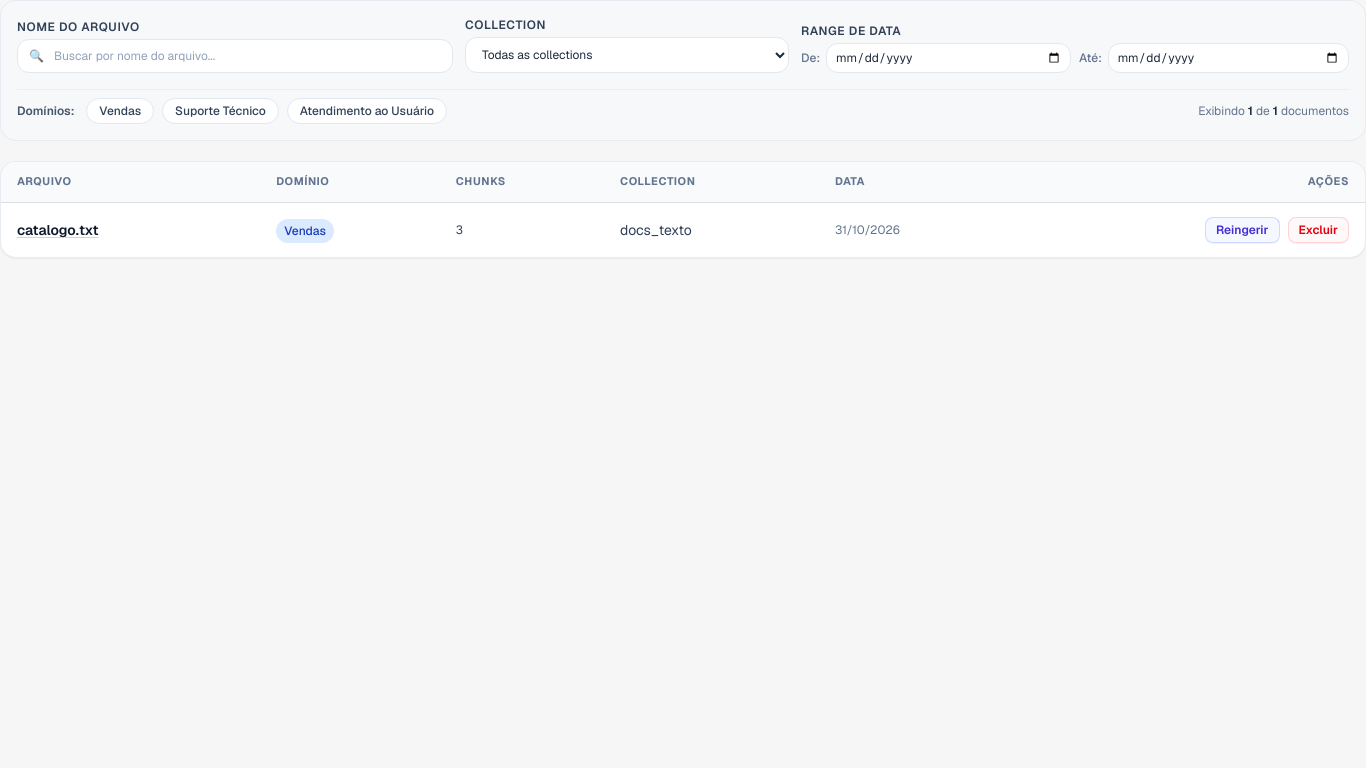
Test: DocumentsTable › clicar em reingerir abre o modal de reingestão
Click the button "Reingerir". click: (1242, 230)
box: left=1205, top=217, right=1280, bottom=243
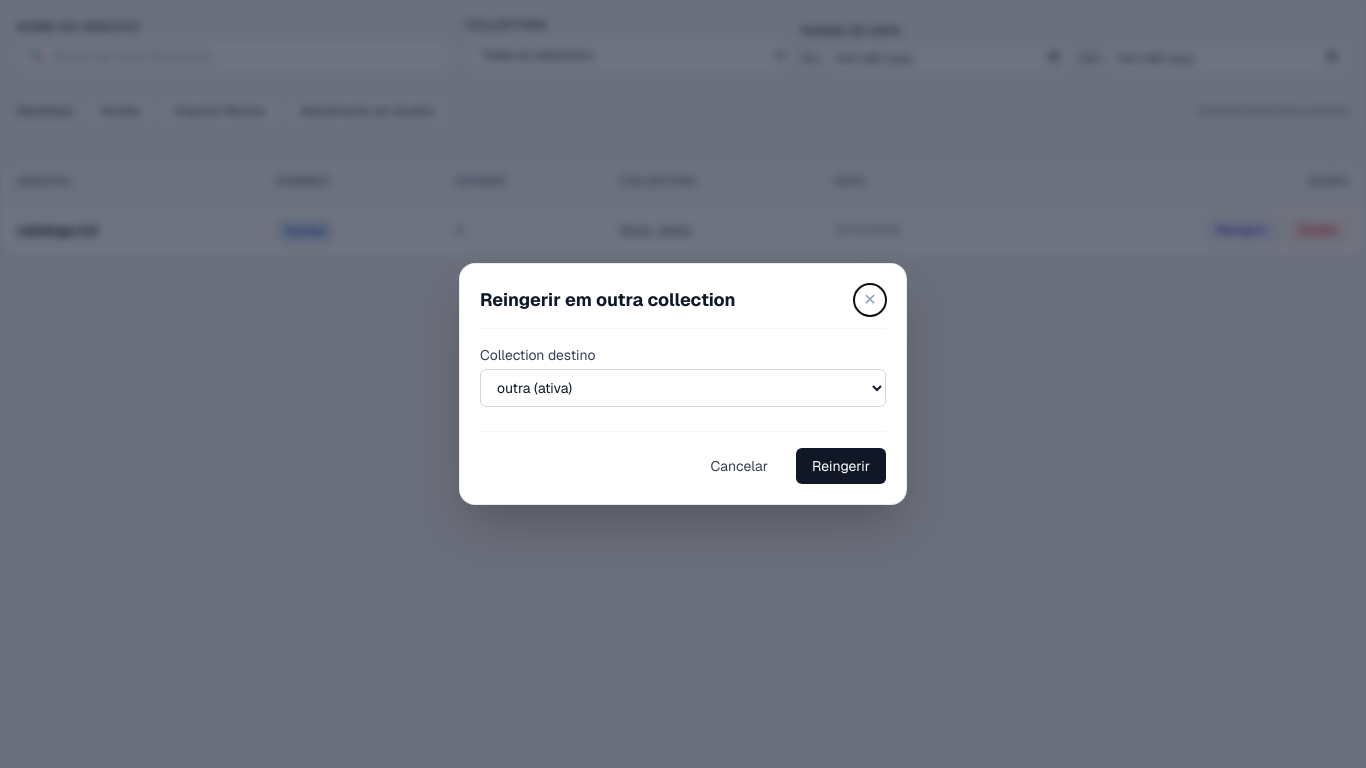
Result: the text "Reingerir em outra collection" is shown at left=480, top=286, right=736, bottom=314
